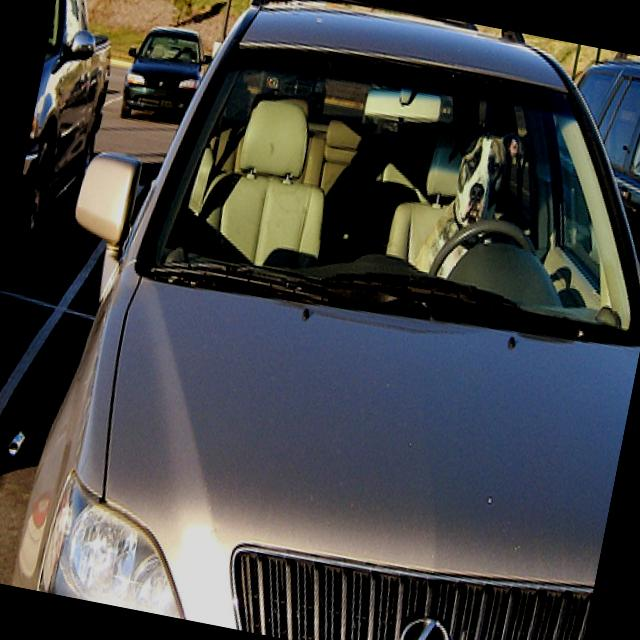Vehicle: (1, 0, 640, 640), (10, 0, 133, 250), (543, 45, 640, 262), (116, 20, 217, 130)
